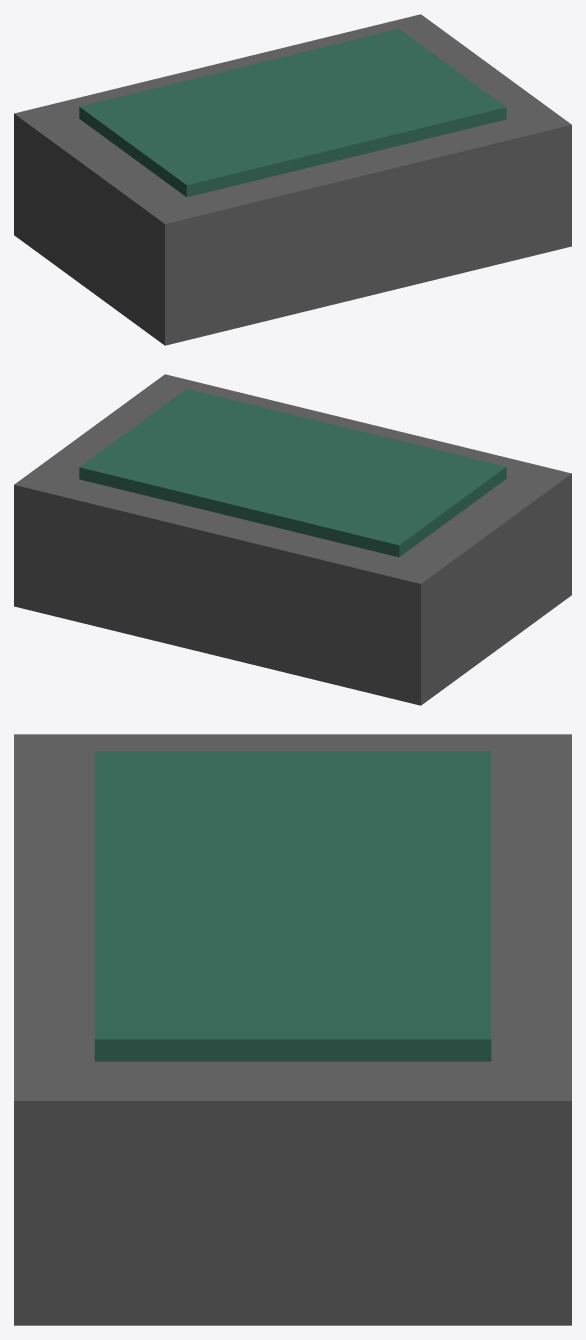
The model's file is accessory-esp32lcd.glb.
3 views of the same model, one above another, from view 1: azimuth 30°, elevation 25°; view 2: azimuth 150°, elevation 25°; view 3: azimuth 270°, elevation 25° (orthographic). The views are drawn at different scales.
Visible parts, largest first — view 1: geometry_0, geometry_1; view 2: geometry_0, geometry_1; view 3: geometry_0, geometry_1.
Boxes of the visible parts, box(x1,y1,x2,y2) form: geometry_0: box(14, 14, 571, 345); geometry_1: box(79, 29, 506, 197); geometry_0: box(14, 374, 571, 705); geometry_1: box(79, 389, 506, 557); geometry_0: box(14, 734, 571, 1325); geometry_1: box(94, 751, 491, 1061).
Size of the model in its own units: 0.07 by 0.022 by 0.045.
